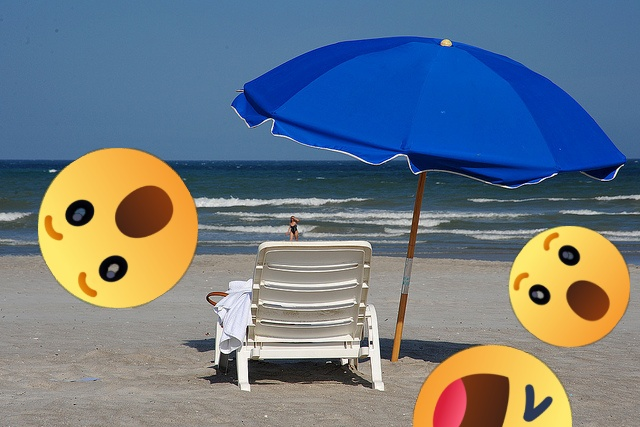haha: (413, 345, 572, 427)
wow: (38, 148, 198, 308), (509, 226, 630, 347)
